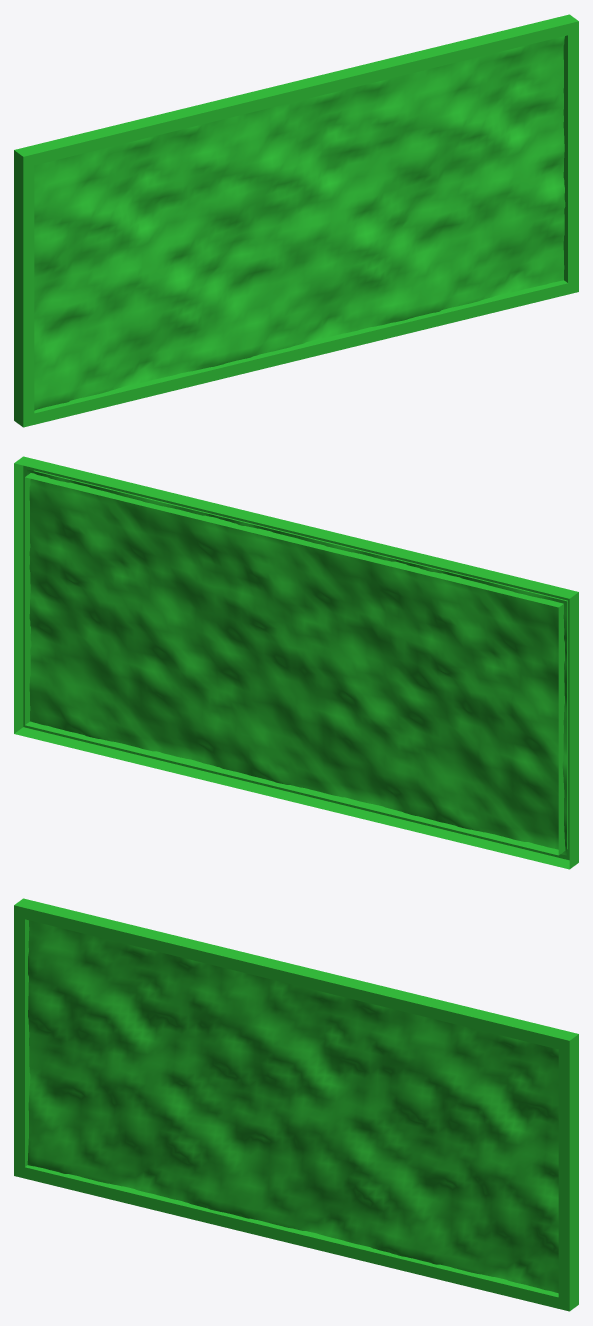
Rendered from Moss_panno.fbx.
The picture shows the model from 3 angles, top to bottom: view 1: azimuth 30°, elevation 25°; view 2: azimuth 150°, elevation 25°; view 3: azimuth 330°, elevation 25°; orthographic projection.
Parts seen in each view (by area): view 1: Moss_panno; view 2: Moss_panno; view 3: Moss_panno.
Part boxes in pixels (x1,y1,x2,y2): Moss_panno: (14, 14, 578, 427); Moss_panno: (14, 456, 578, 869); Moss_panno: (14, 898, 578, 1311).
Bounding box in the file's own units: 412 × 192 × 12.
